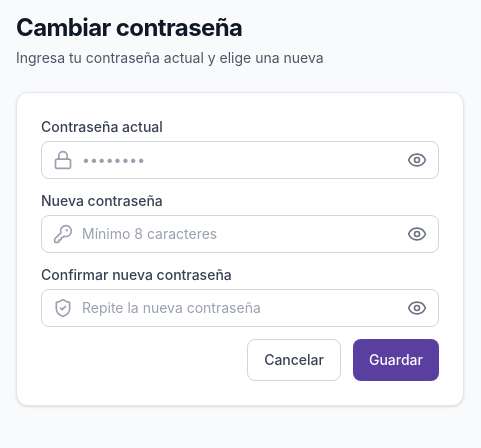
Test: ChangePasswordPage › muestra error si la contraseña actual está vacía
Type "NewPass1!" into the password field labelled "Nueva contraseña". click: (240, 234)
box: [41,215,439,253]
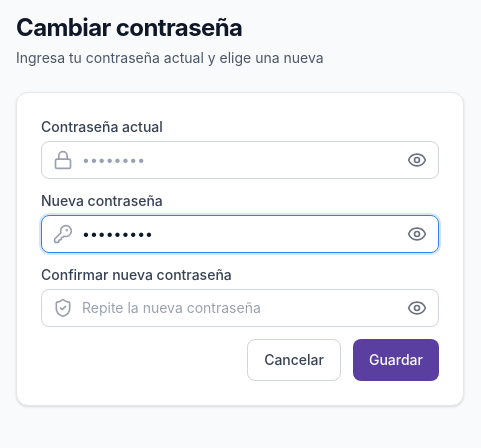
Type "NewPass1!" into the password field labelled "Confirmar nueva contraseña". click: (240, 308)
box: [41,289,439,327]
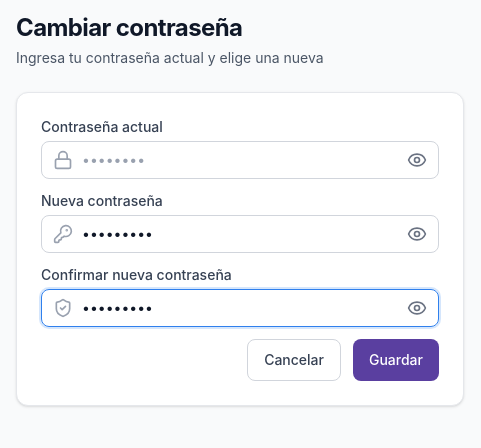
Click the button "Guardar". click: click(396, 360)
box: [353,339,439,381]
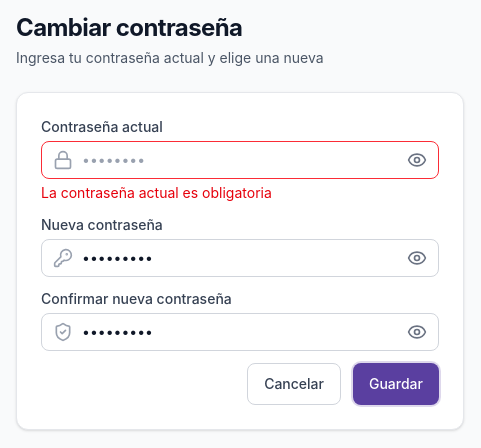
Expected: the text "La contraseña actual es obligatoria" is shown, [41,184,272,201]
